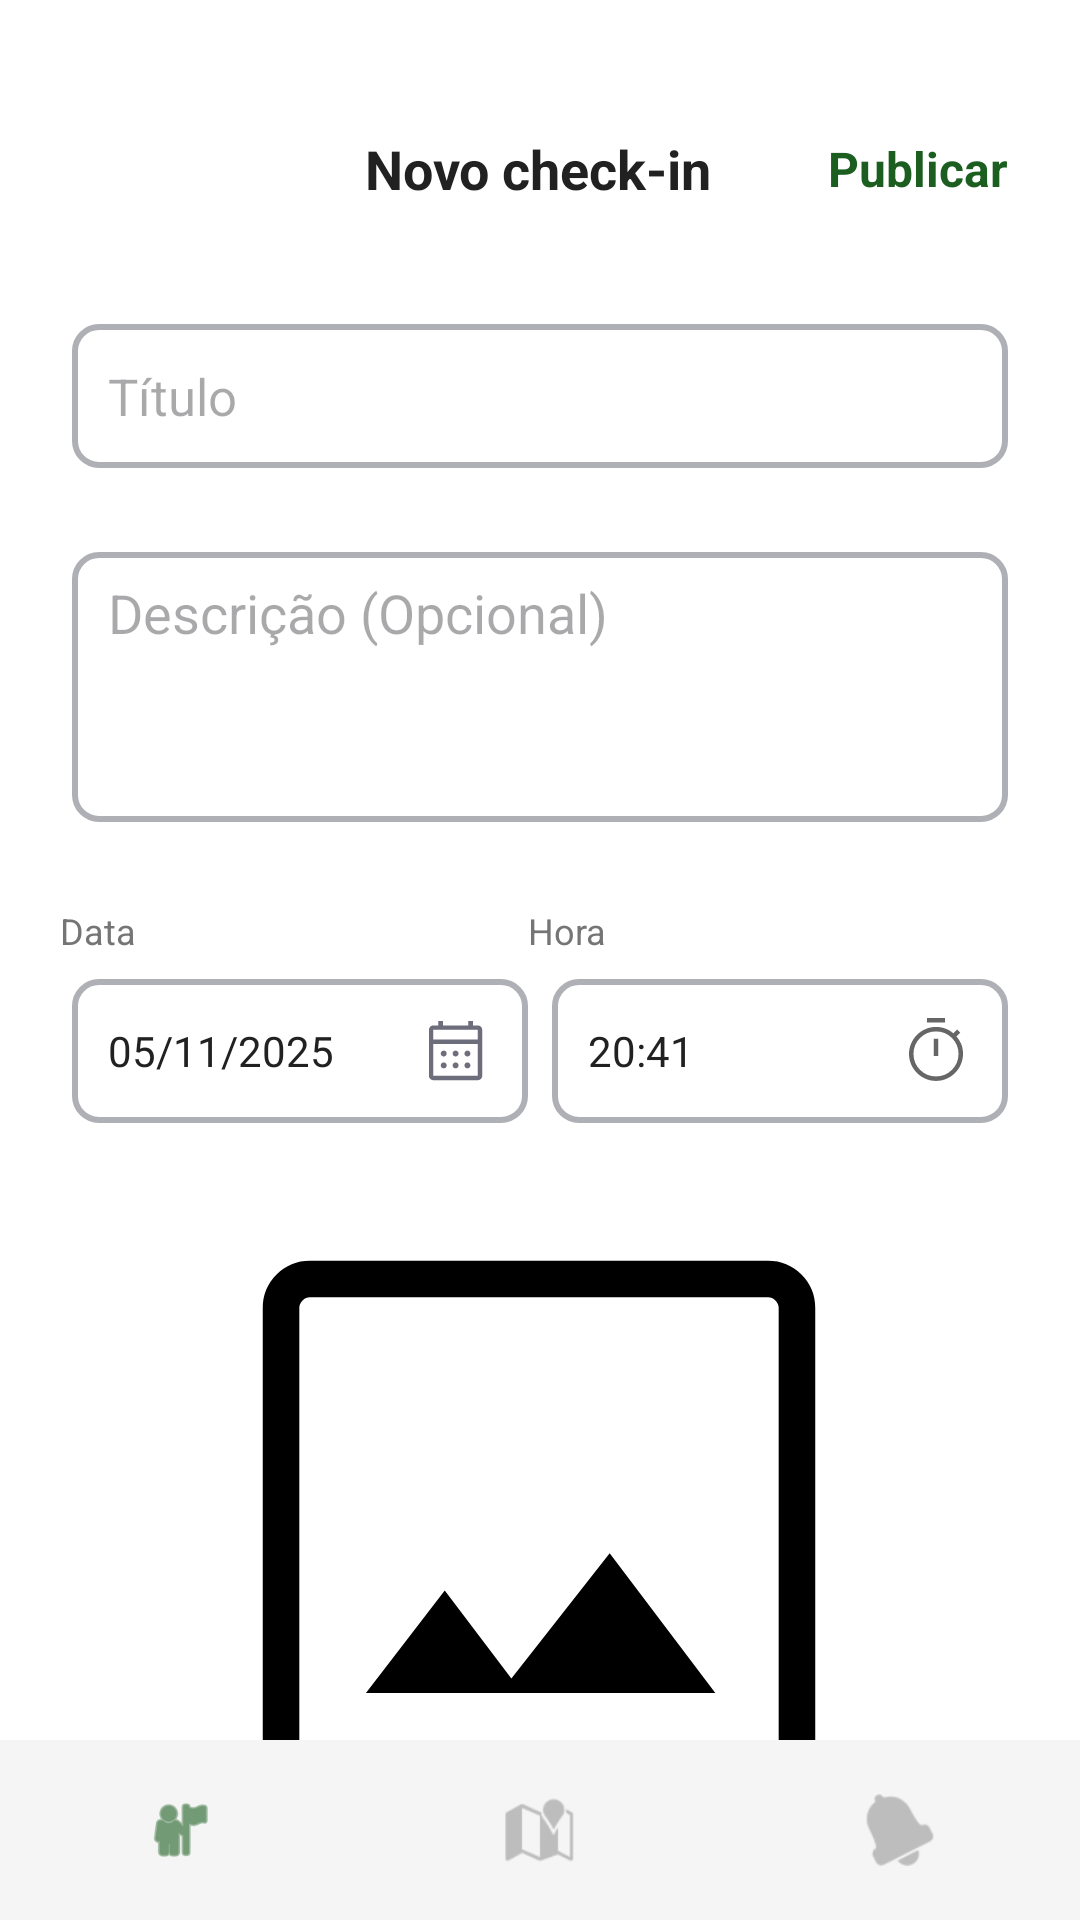

Screen size 1080 × 1920. Icon name, then its center in pixels as (x=x, y=y):
calendario: (x=456, y=1051)
map: (x=539, y=1830)
myplaces: (x=181, y=1830)
popup reminder: (x=900, y=1830)
relogio: (x=936, y=1049)
